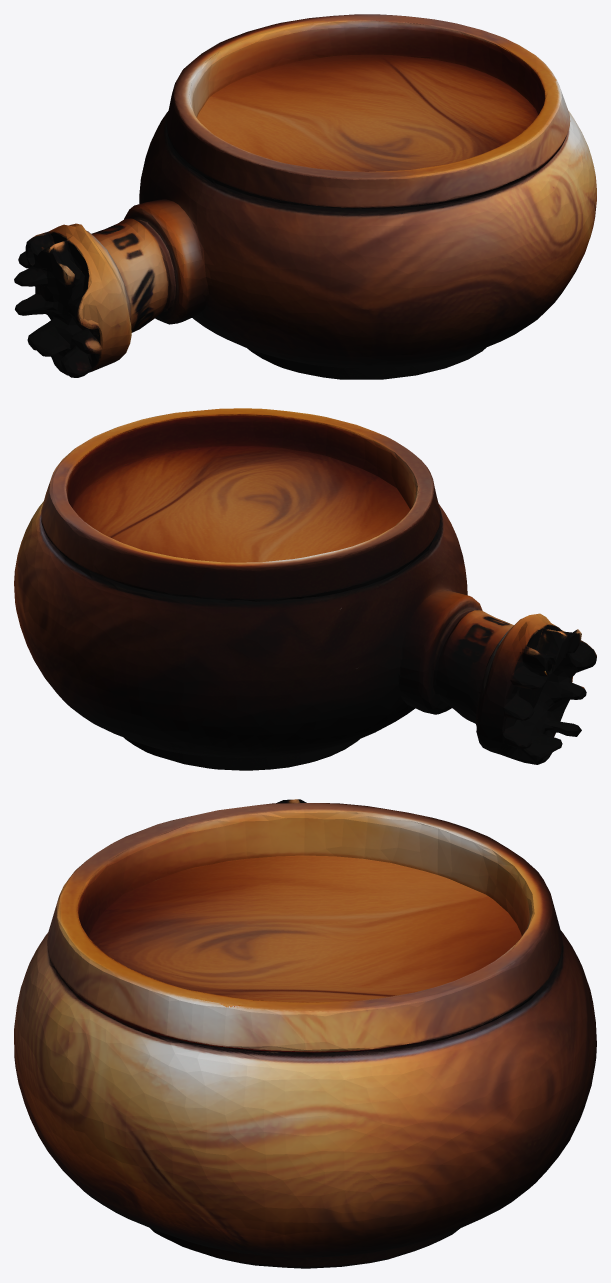
Rendered from wooden-cup-vintage.jpeg.glb.
The picture shows the model from 3 angles, top to bottom: view 1: azimuth 30°, elevation 25°; view 2: azimuth 150°, elevation 25°; view 3: azimuth 270°, elevation 25°; orthographic projection. The views are drawn at different scales.
Parts seen in each view (by area): view 1: world; view 2: world; view 3: world.
Boxes of the visible parts, left/top/right/bottom form: world: left=14, top=14, right=596, bottom=379; world: left=14, top=408, right=596, bottom=770; world: left=14, top=799, right=596, bottom=1268.
Size of the model in its own units: 1 by 0.419 by 0.7523.
Materials: 1 (1 with a texture image).
